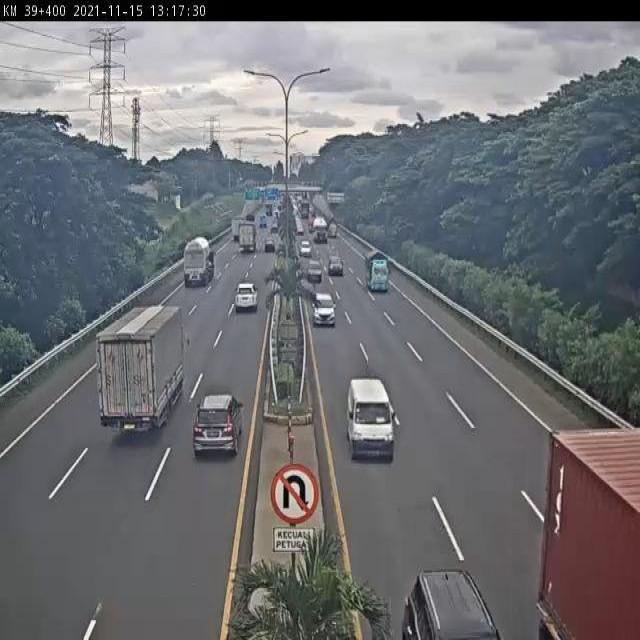bus-s-: (345, 376, 397, 460)
car: (193, 391, 244, 460), (308, 291, 338, 328), (233, 280, 260, 315), (305, 258, 323, 282), (327, 255, 344, 276)
truck-l-: (180, 233, 216, 290)
truck-m-: (97, 300, 188, 435), (366, 254, 396, 294)
